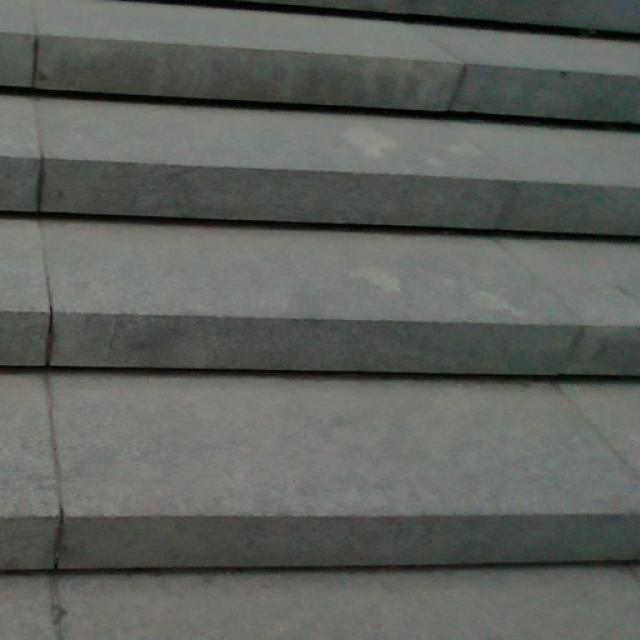stair: (4, 4, 640, 582)
